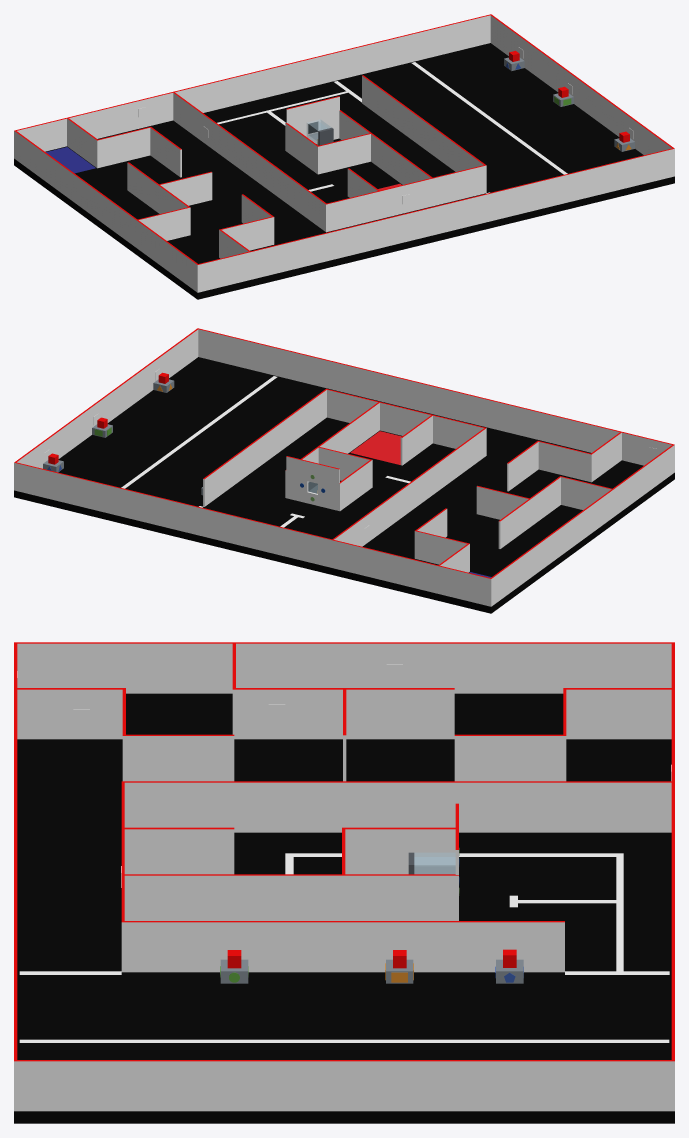
The model's file is Part Studio 1.dae.
3 views of the same model, one above another, from view 1: azimuth 30°, elevation 25°; view 2: azimuth 150°, elevation 25°; view 3: azimuth 270°, elevation 25° (orthographic). The views are drawn at different scales.
Visible parts, largest first — view 1: 69b7b0cc31e57fabf6846fe0 (×6); view 2: 69b7b0cc31e57fabf6846fe0 (×5); view 3: 69b7b0cc31e57fabf6846fe0 (×5).
Part boxes in pixels (x1=…): 69b7b0cc31e57fabf6846fe0 (×6): x1=14, y1=14, x2=674, y2=299; 69b7b0cc31e57fabf6846fe0 (×5): x1=14, y1=328, x2=674, y2=613; 69b7b0cc31e57fabf6846fe0 (×5): x1=14, y1=642, x2=674, y2=1123.
Bounding box in the file's own units: 3.6 × 2.4 × 0.35.
